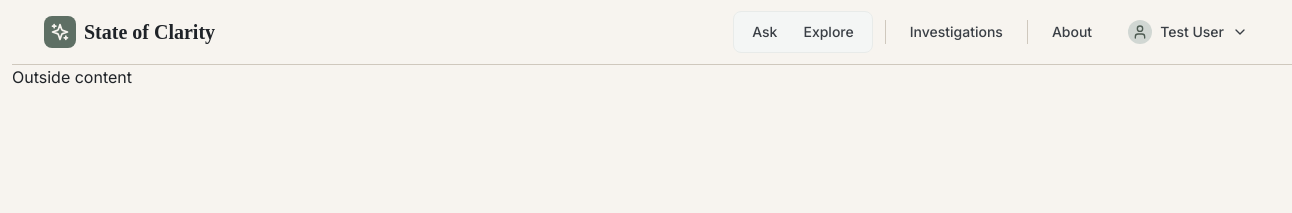
it: Header User Menu Dropdown › should close dropdown when clicking outside
The width and height of the screenshot is (1292, 213).
Click the button with test id "user-menu-button" at {"x": 1188, "y": 32}, box left=1116, top=12, right=1260, bottom=52
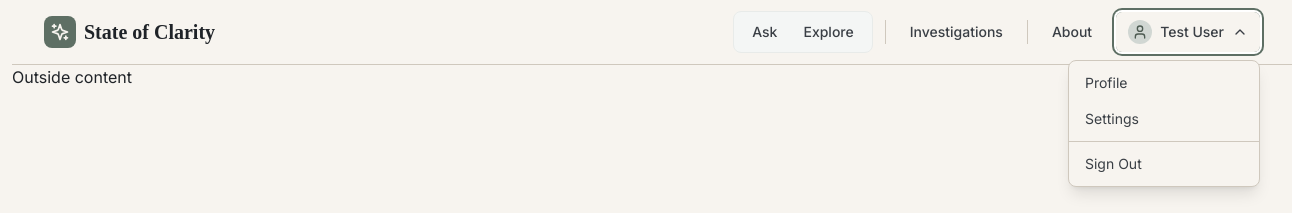
Expected: the menu with test id "user-menu-dropdown" is shown, left=1068, top=60, right=1260, bottom=187
// Click outside the dropdown using mousedown event (which is what the handler listens to)
Press the mouse on the text with test id "outside-element" at {"x": 72, "y": 77}, box left=12, top=67, right=132, bottom=87
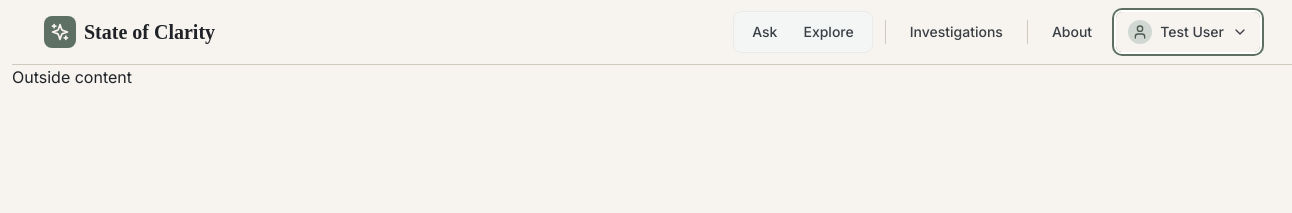
Expected: the menu with test id "user-menu-dropdown" is gone
